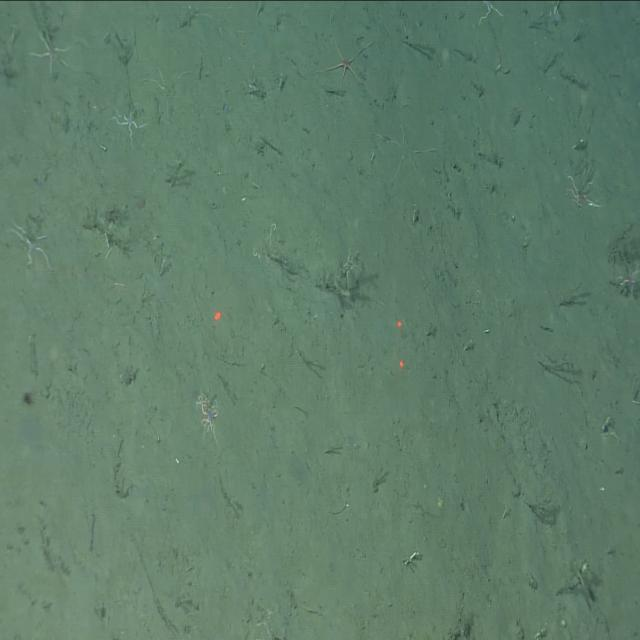Brittle Star: (317, 22, 377, 102), (25, 20, 81, 84), (4, 212, 56, 280), (560, 158, 605, 218), (109, 96, 151, 150), (196, 399, 224, 447)
Not Brittle Star: (17, 383, 38, 413)
